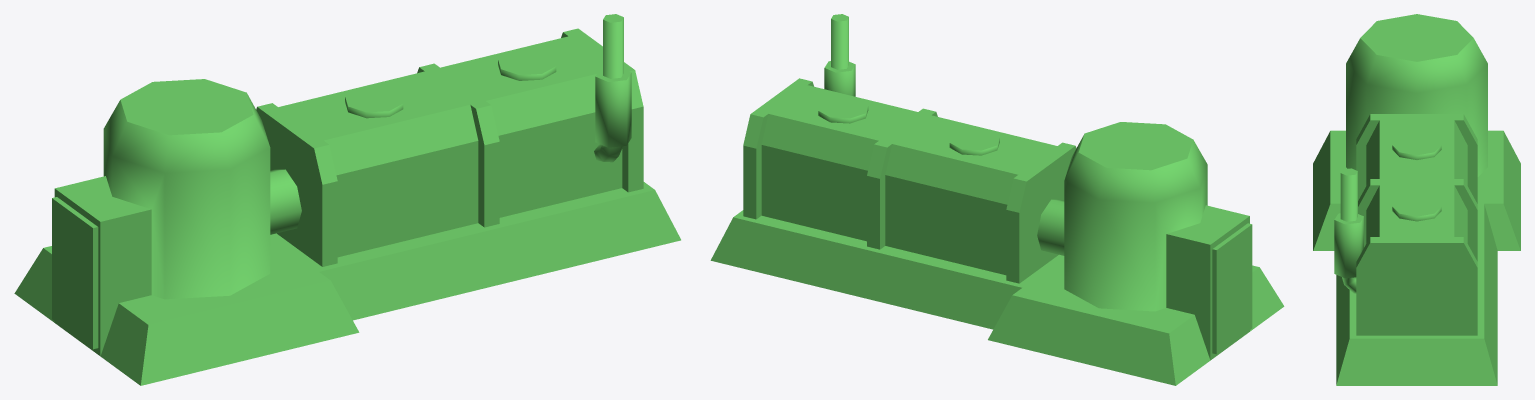
File: powergenerator.dae
3 views of the same model, side by side, from view 1: azimuth 30°, elevation 25°; view 2: azimuth 150°, elevation 25°; view 3: azimuth 270°, elevation 25° (orthographic). The views are drawn at different scales.
Visible parts, largest first — view 1: Generator; view 2: Generator; view 3: Generator.
Boxes of the visible parts, <box> form: Generator: <box>14,14,680,385</box>; Generator: <box>710,14,1284,385</box>; Generator: <box>1313,14,1520,385</box>.
Bounding box in the file's own units: 7.5 × 2.93 × 2.95.
